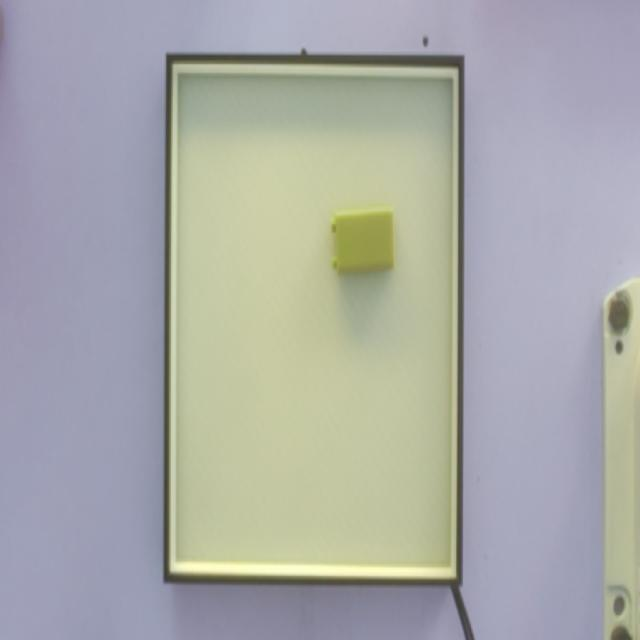bateria: (331, 209, 394, 273)
mesa: (164, 54, 464, 588)
